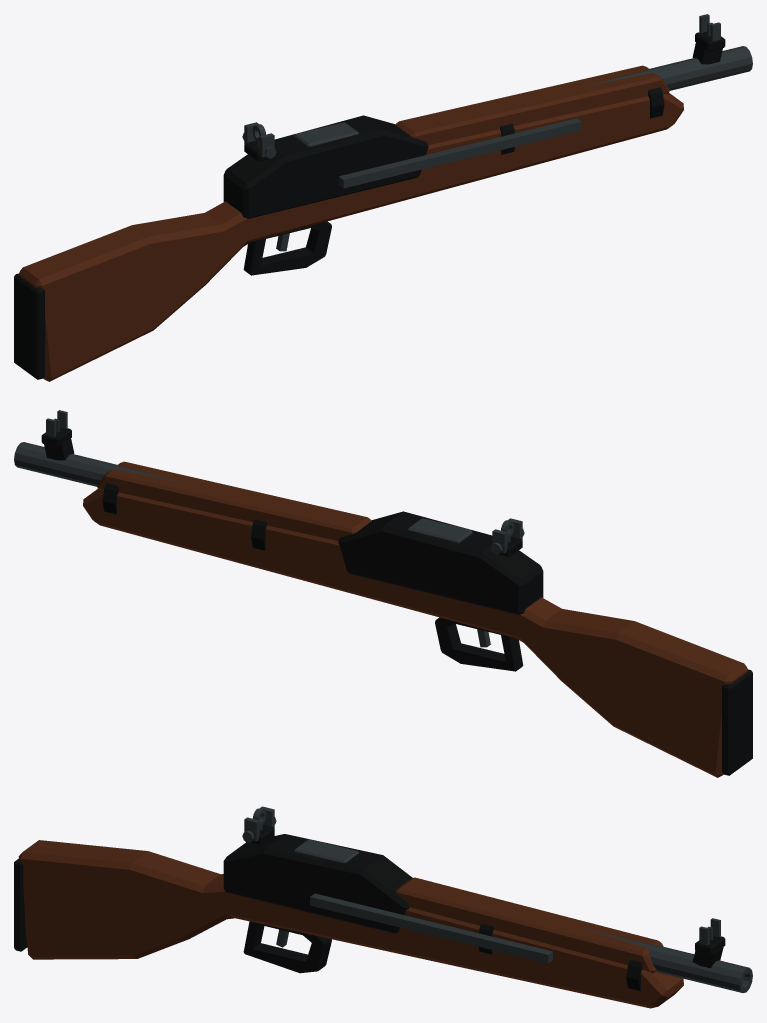
File: CE_Gun_M1Garand.obj
3 renders of one model, top to bottom at view 1: azimuth 30°, elevation 25°; view 2: azimuth 150°, elevation 25°; view 3: azimuth 330°, elevation 25°, orthographic.
Visible parts, largest first — view 1: M1Garand_individually_shaped_stock_and_bedding, M1Garand_contoured_receiver, M1Garand_upper_wooden_handguard, Garand_operating_rod, Contoured_butt_plate, Hollow_gun_barrel, Shaped_trigger_guard, Top_enbloc_well; view 2: M1Garand_individually_shaped_stock_and_bedding, M1Garand_contoured_receiver, M1Garand_upper_wooden_handguard, Contoured_butt_plate, Hollow_gun_barrel, Shaped_trigger_guard, Top_enbloc_well; view 3: M1Garand_individually_shaped_stock_and_bedding, M1Garand_contoured_receiver, M1Garand_upper_wooden_handguard, Garand_operating_rod, Hollow_gun_barrel, Shaped_trigger_guard, Contoured_butt_plate, Top_enbloc_well, Barrel_retaining_band.001, Low_sight_base, Connected_sight_ramp.
Boxes of the visible parts, bbox=[...] form: M1Garand_individually_shaped_stock_and_bedding: bbox=[18, 93, 683, 381]; M1Garand_contoured_receiver: bbox=[223, 115, 428, 218]; M1Garand_upper_wooden_handguard: bbox=[395, 65, 669, 145]; Garand_operating_rod: bbox=[338, 118, 581, 188]; Contoured_butt_plate: bbox=[14, 273, 44, 379]; Hollow_gun_barrel: bbox=[402, 46, 752, 130]; Shaped_trigger_guard: bbox=[243, 221, 331, 275]; Top_enbloc_well: bbox=[294, 122, 358, 147]; M1Garand_individually_shaped_stock_and_bedding: bbox=[83, 489, 748, 777]; M1Garand_contoured_receiver: bbox=[338, 511, 543, 614]; M1Garand_upper_wooden_handguard: bbox=[97, 461, 371, 541]; Contoured_butt_plate: bbox=[722, 669, 752, 775]; Hollow_gun_barrel: bbox=[14, 442, 364, 526]; Shaped_trigger_guard: bbox=[435, 617, 523, 671]; Top_enbloc_well: bbox=[408, 518, 472, 543]; M1Garand_individually_shaped_stock_and_bedding: bbox=[18, 840, 683, 1008]; M1Garand_contoured_receiver: bbox=[223, 834, 412, 933]; M1Garand_upper_wooden_handguard: bbox=[395, 877, 663, 973]; Garand_operating_rod: bbox=[310, 893, 552, 963]; Hollow_gun_barrel: bbox=[584, 929, 752, 992]; Shaped_trigger_guard: bbox=[243, 921, 331, 973]; Contoured_butt_plate: bbox=[14, 858, 27, 951]; Top_enbloc_well: bbox=[294, 839, 358, 862]; Barrel_retaining_band.001: bbox=[626, 959, 642, 990]; Low_sight_base: bbox=[695, 935, 725, 955]; Connected_sight_ramp: bbox=[692, 947, 723, 968].
Bounding box in the file's own units: 1.39 × 0.3639 × 0.099.
